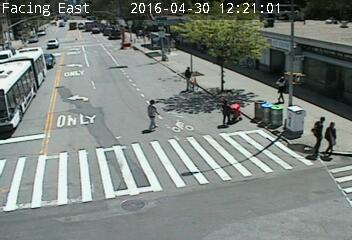pos: (303, 114, 336, 157), (319, 118, 348, 157), (139, 96, 165, 132), (215, 95, 238, 125), (271, 74, 293, 105), (180, 63, 200, 90)
